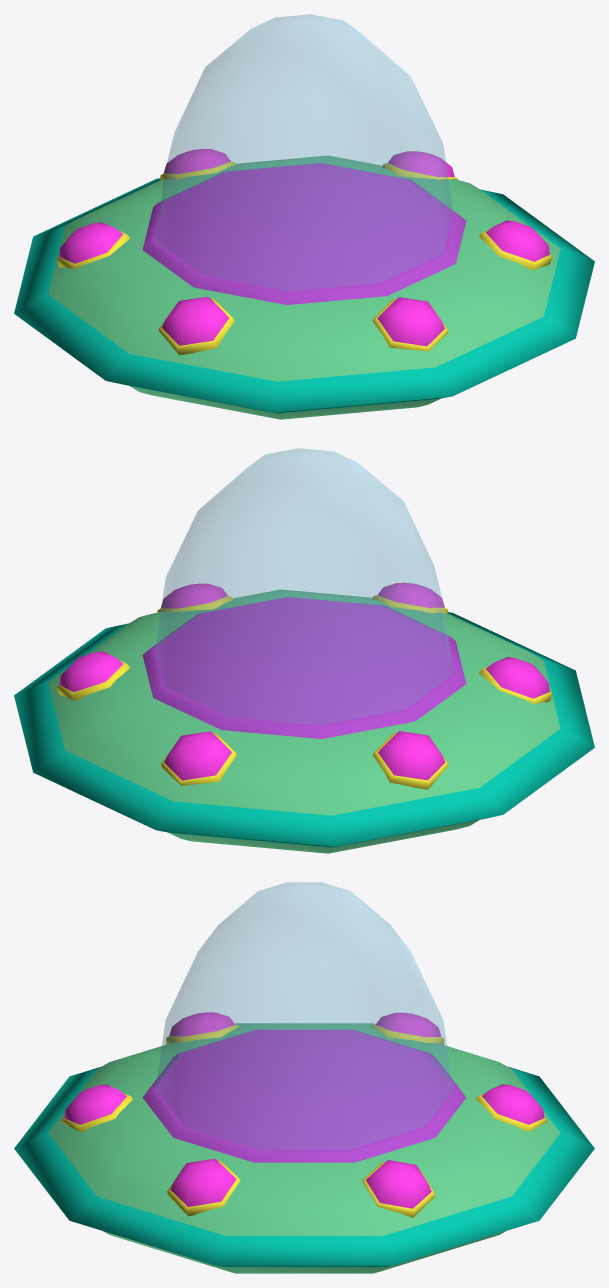
The model's file is ToriUFO.fbx.
The picture shows the model from 3 angles, top to bottom: view 1: azimuth 30°, elevation 25°; view 2: azimuth 150°, elevation 25°; view 3: azimuth 270°, elevation 25°; orthographic projection. The views are drawn at different scales.
Parts seen in each view (by area): view 1: ToriUFO; view 2: ToriUFO; view 3: ToriUFO.
Part boxes in pixels (x1,y1,x2,y2): ToriUFO: (14,14,594,419); ToriUFO: (14,448,594,853); ToriUFO: (14,882,594,1273).
Size of the model in its own units: 208 by 132 by 219.
